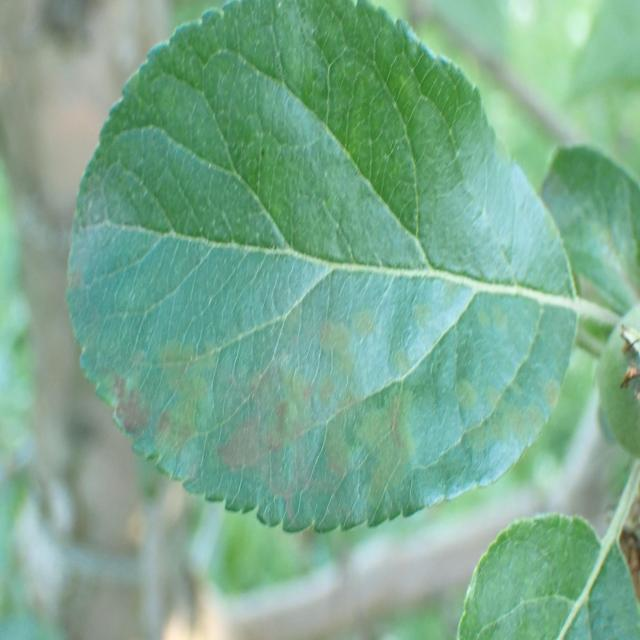scab: (93, 296, 573, 519)
